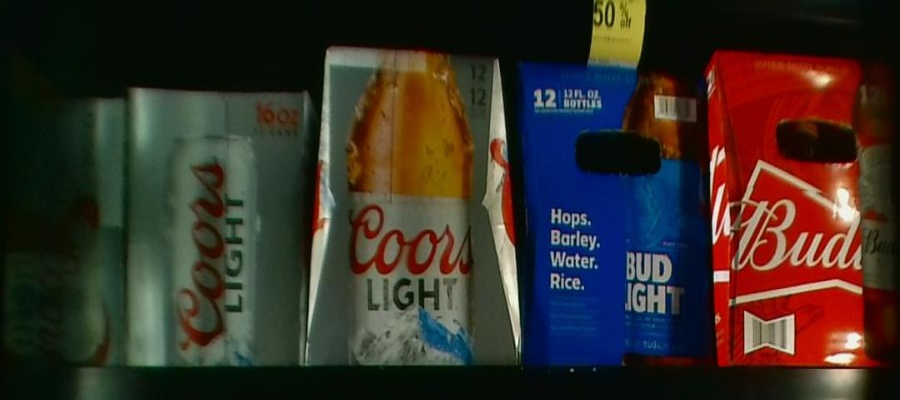bottle: (313, 43, 519, 361), (708, 46, 900, 368), (519, 61, 712, 364), (129, 84, 306, 366), (4, 92, 125, 364)
